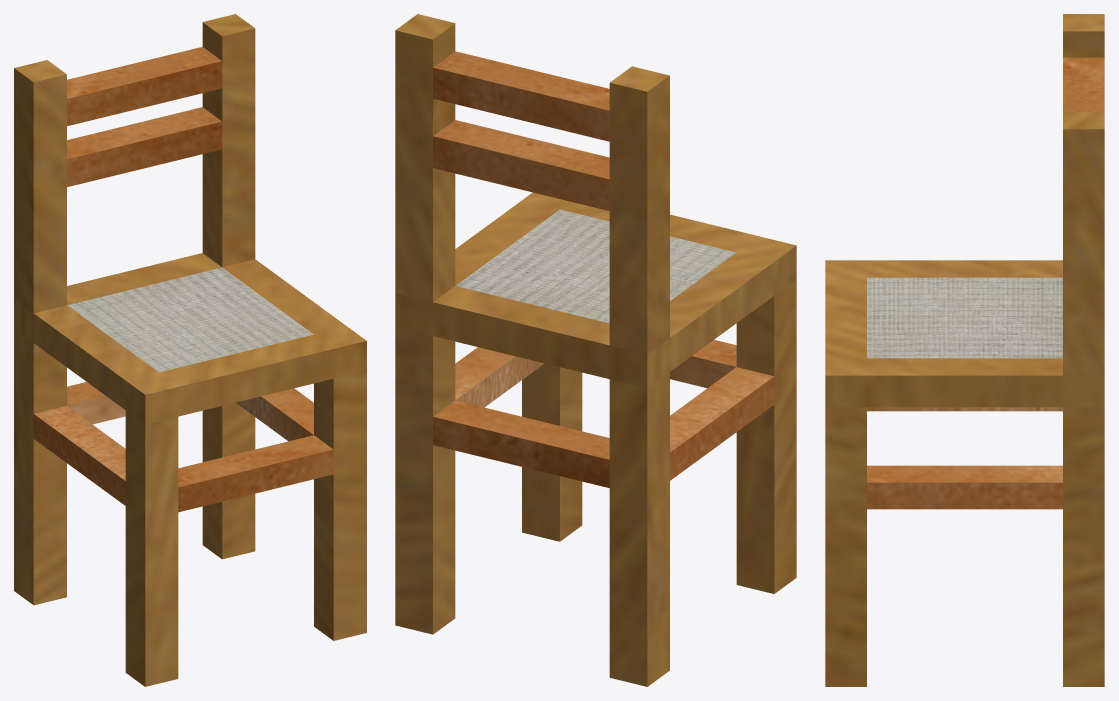
File: chair.FBX
The picture shows the model from 3 angles, left to right: view 1: azimuth 30°, elevation 25°; view 2: azimuth 150°, elevation 25°; view 3: azimuth 270°, elevation 25°; orthographic projection. The views are drawn at different scales.
Visible parts, largest first — view 1: Box001, Object002, Object001; view 2: Box001, Object002, Object001; view 3: Box001, Object001, Object002.
Part boxes in pixels (<box>): Box001: <box>14,14,366,686</box>; Object002: <box>33,47,333,512</box>; Object001: <box>67,267,313,372</box>; Box001: <box>395,14,796,686</box>; Object002: <box>433,51,774,487</box>; Object001: <box>456,209,736,323</box>; Box001: <box>825,14,1104,686</box>; Object001: <box>867,277,1062,358</box>; Object002: <box>867,57,1104,509</box>.
Bounding box in the file's own units: 39.51 × 89.1 × 40.49.
Materials: 3 (3 with a texture image).
